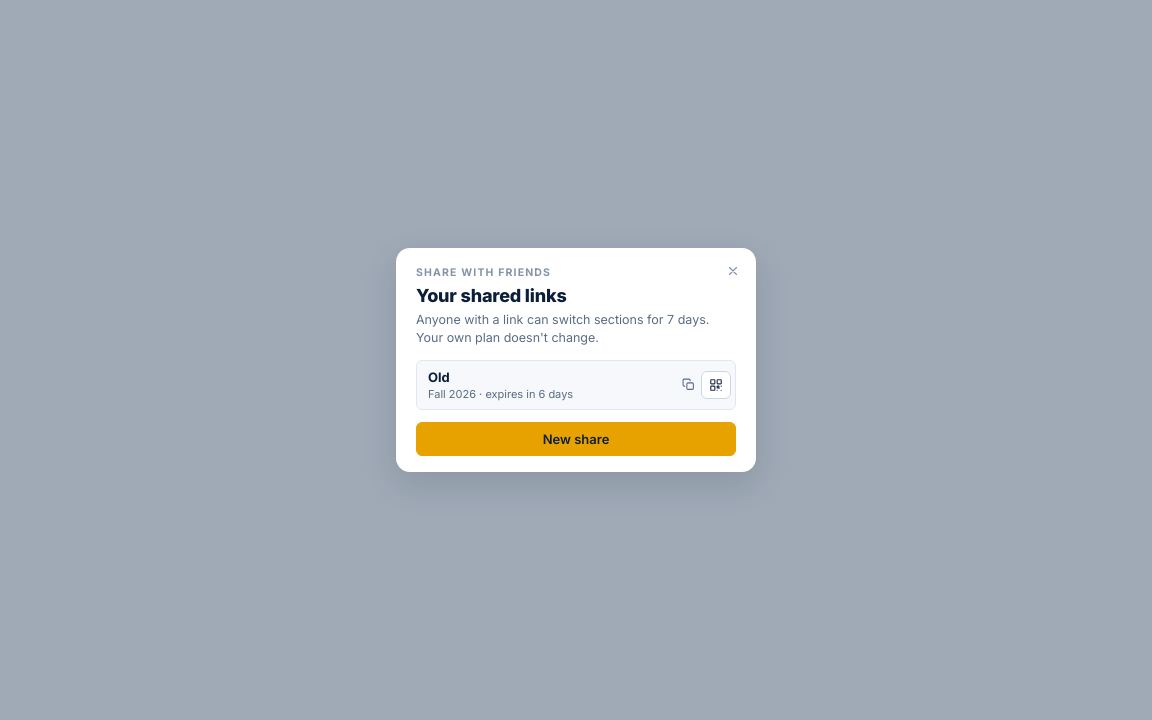
Scenario: ShareFriendsDialog › New share with a single plan creates at once, lists it first and copies it
Click the button "New share" at (576, 439), box [416,422,736,456]
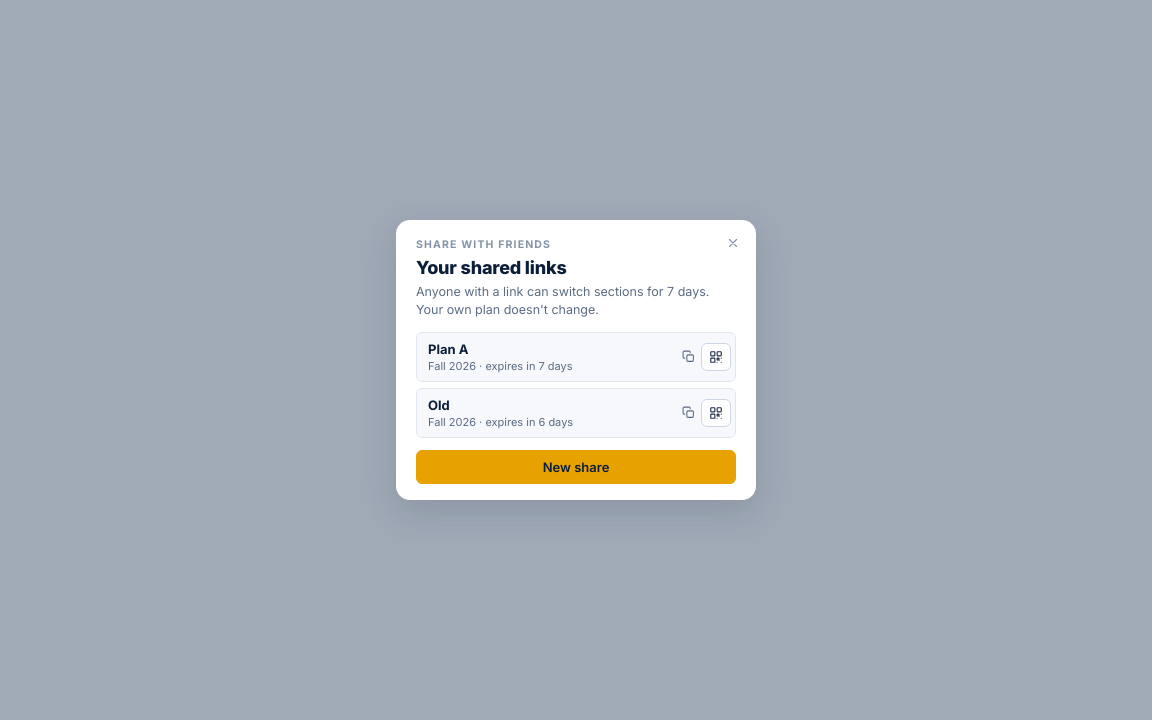
expect the text "Plan A" is shown: met, box [428,341,468,357]
